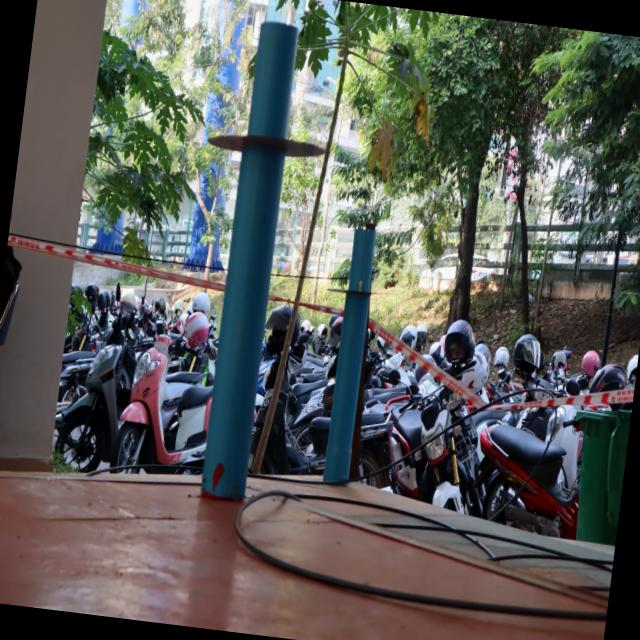pole: (187, 5, 345, 261), (318, 218, 394, 368)
